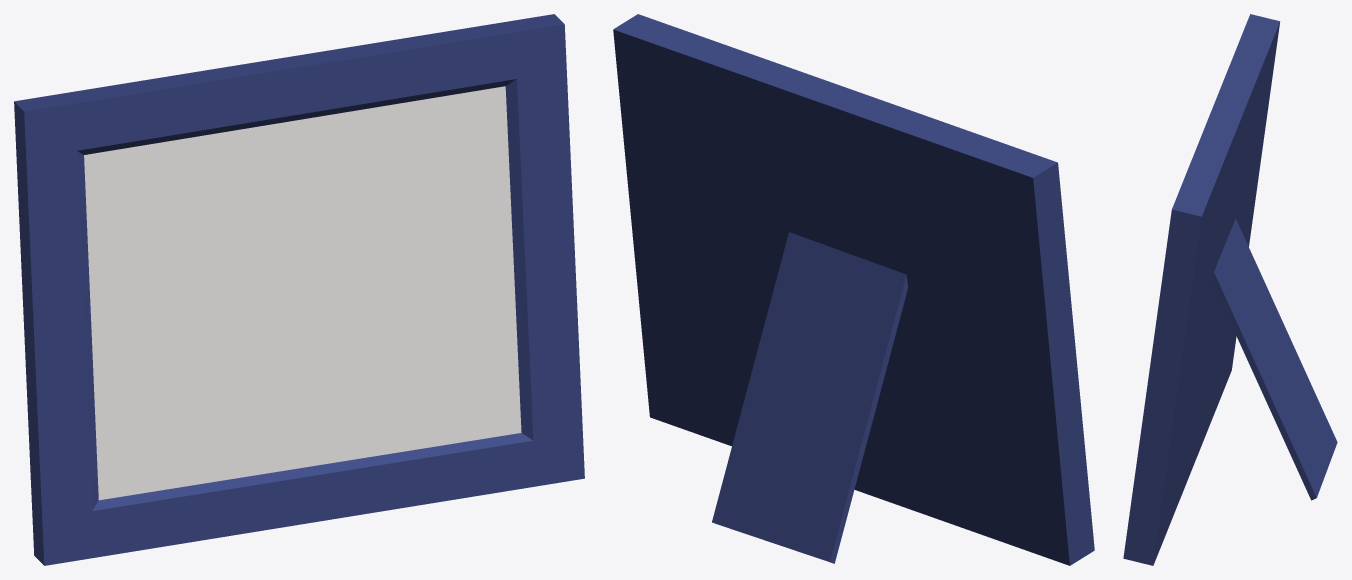
The model's file is Photoframe_7.fbx.
3 renders of one model, left to right at view 1: azimuth 30°, elevation 25°; view 2: azimuth 150°, elevation 25°; view 3: azimuth 270°, elevation 25°, orthographic. The views are drawn at different scales.
Parts seen in each view (by area): view 1: Photoframe_7; view 2: Photoframe_7; view 3: Photoframe_7.
Boxes of the visible parts, x1,y1,x2,y2 form: Photoframe_7: (14,14,584,565); Photoframe_7: (613,14,1094,565); Photoframe_7: (1123,14,1337,565).
Bounding box in the file's own units: 18.29 × 8.11 × 14.98.
